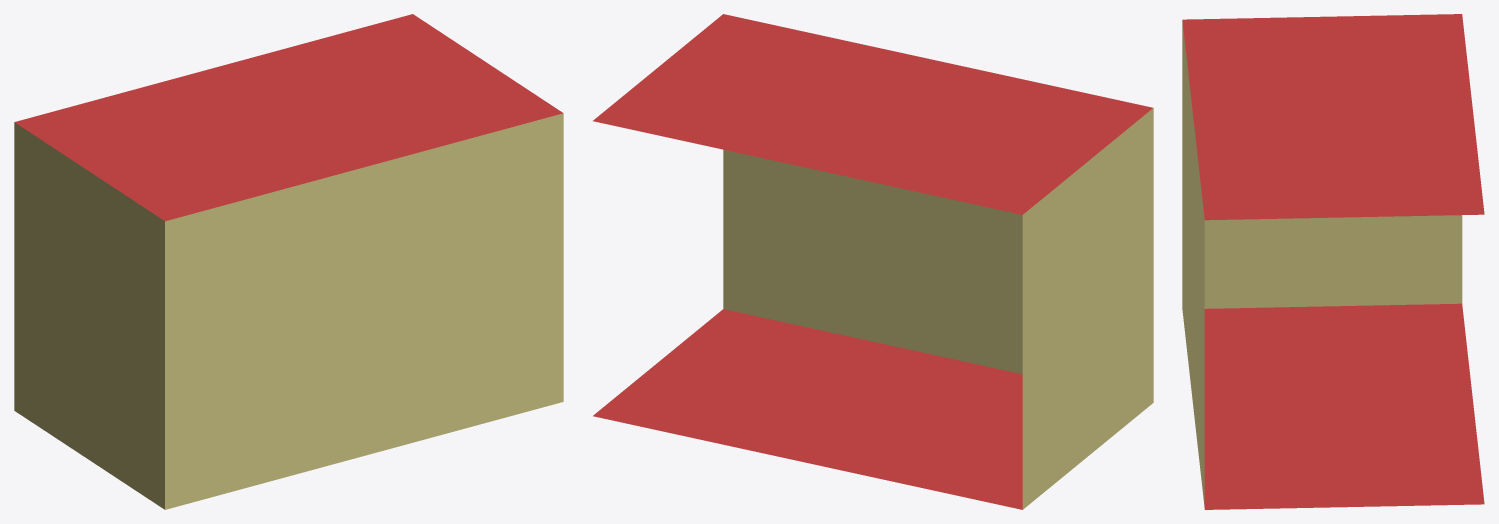
3 renders of one model, left to right at view 1: azimuth 30°, elevation 25°; view 2: azimuth 150°, elevation 25°; view 3: azimuth 270°, elevation 25°, orthographic. The views are drawn at different scales.
Bounding box in the file's own units: 8.61 × 5.33 × 5.64.
